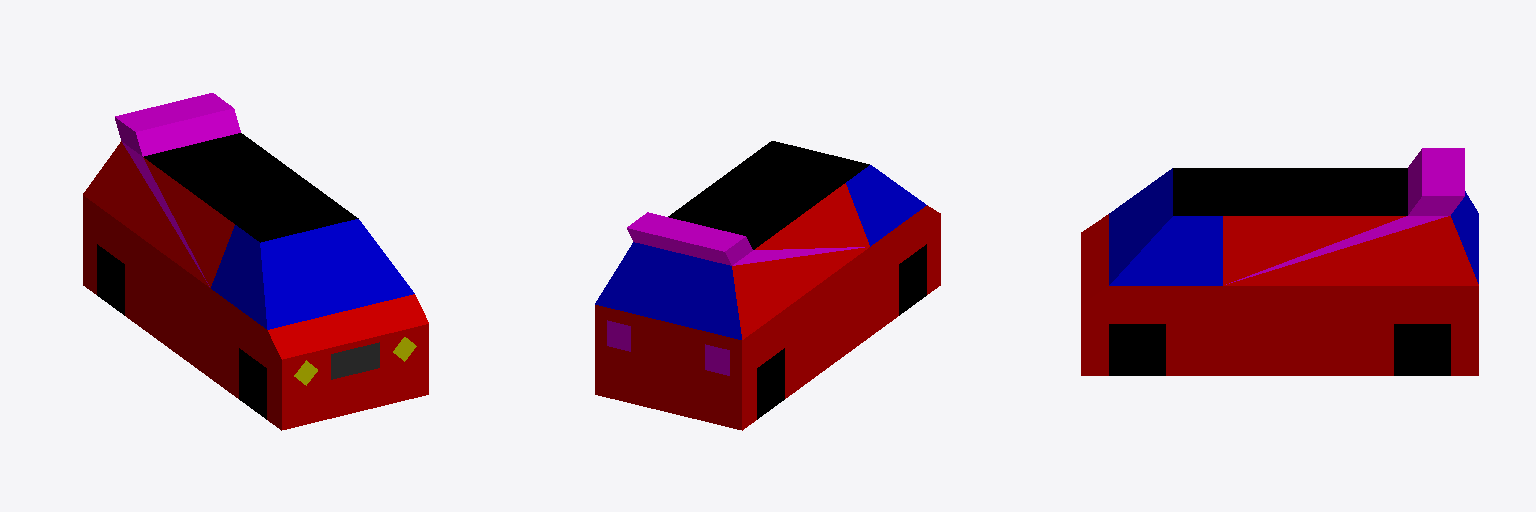
File: a_van_car.obj
The picture shows the model from 3 angles: view 1: azimuth 30°, elevation 25°; view 2: azimuth 150°, elevation 25°; view 3: azimuth 270°, elevation 25°; orthographic projection.
Parts seen in each view (by area): view 1: van_car; view 2: van_car; view 3: van_car.
Part boxes in pixels (x1,y1,x2,y2): van_car: (83, 93, 428, 430); van_car: (595, 141, 940, 430); van_car: (1081, 148, 1478, 375).
Size of the model in its own units: 12 by 13 by 28.